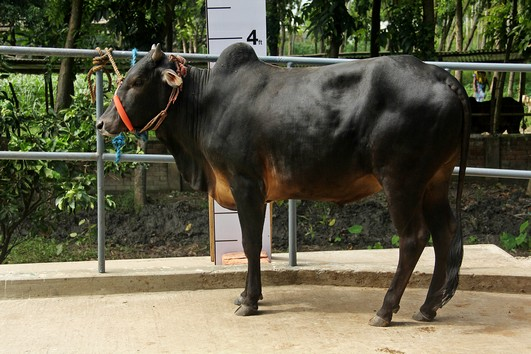cow: (93, 36, 474, 330)
